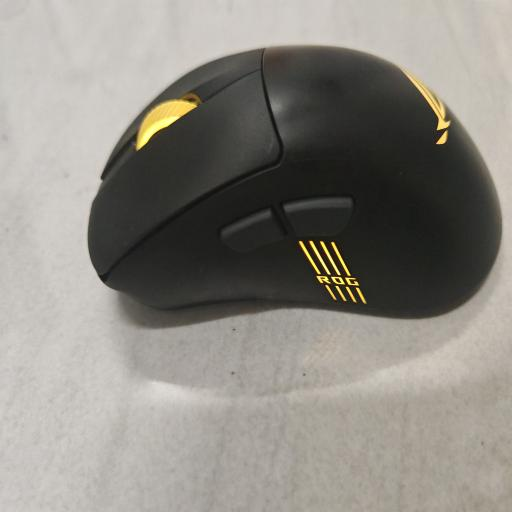mouse: (88, 46, 502, 317)
